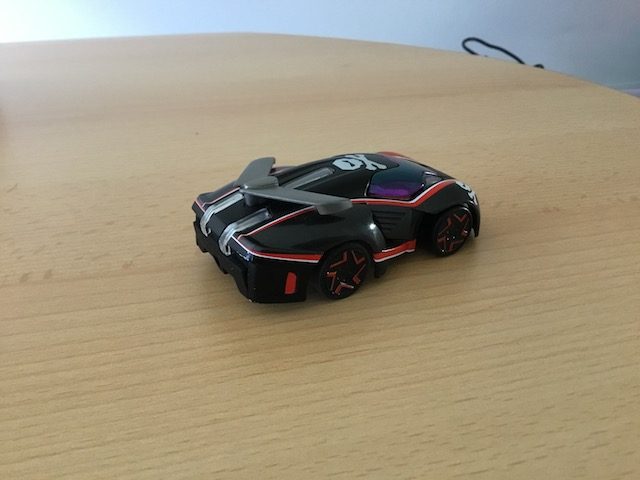car-red: (184, 146, 486, 309)
